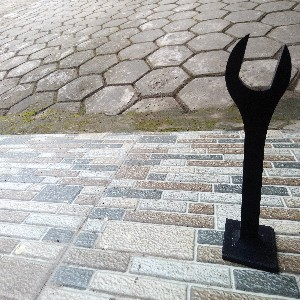spanner: (218, 33, 292, 274)
